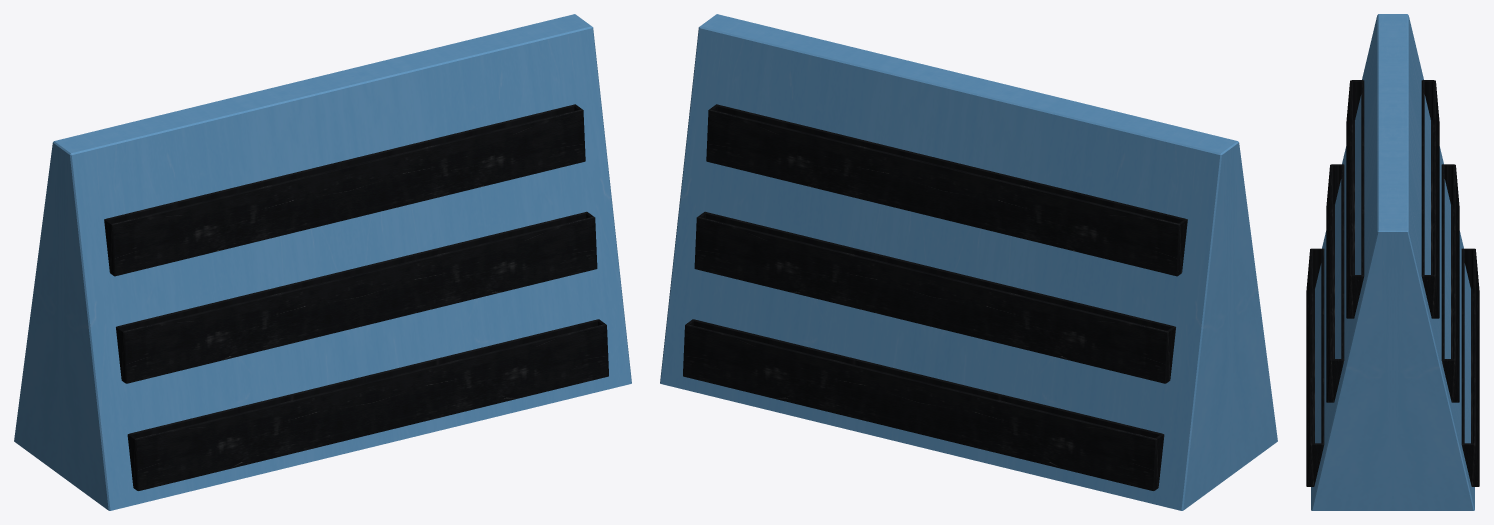
Rendered from Rack_2.fbx.
The picture shows the model from 3 angles, left to right: view 1: azimuth 30°, elevation 25°; view 2: azimuth 150°, elevation 25°; view 3: azimuth 270°, elevation 25°; orthographic projection. The views are drawn at different scales.
Parts seen in each view (by area): view 1: Rack_2; view 2: Rack_2; view 3: Rack_2.
Part boxes in pixels (left/top/right/bottom): Rack_2: left=14, top=14, right=631, bottom=510; Rack_2: left=660, top=14, right=1277, bottom=510; Rack_2: left=1306, top=14, right=1479, bottom=510.
Bounding box in the file's own units: 2 × 1.2 × 0.6728.
